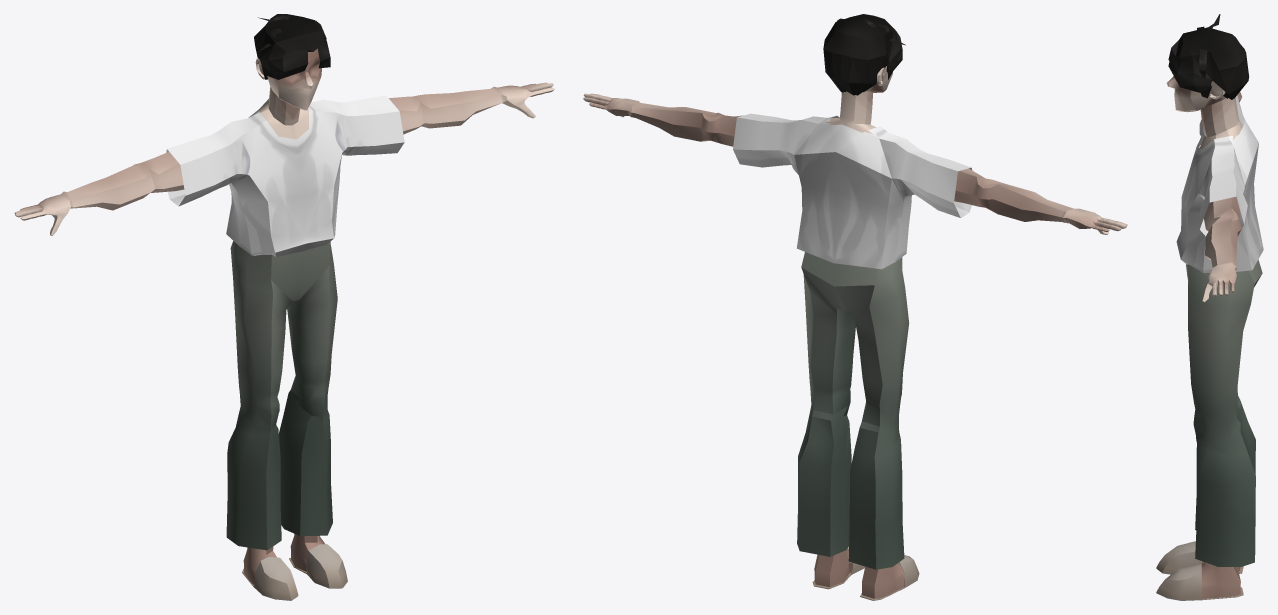
The model's file is customer1.fbx.
3 renders of one model, left to right at view 1: azimuth 30°, elevation 25°; view 2: azimuth 150°, elevation 25°; view 3: azimuth 270°, elevation 25°, orthographic. The views are drawn at different scales.
Parts seen in each view (by area): view 1: Box001; view 2: Box001; view 3: Box001.
Part boxes in pixels (x1,y1,x2,y2): Box001: (14,14,554,600); Box001: (583,14,1127,600); Box001: (1156,14,1263,600).
Bounding box in the file's own units: 111 × 110 × 19.46.
